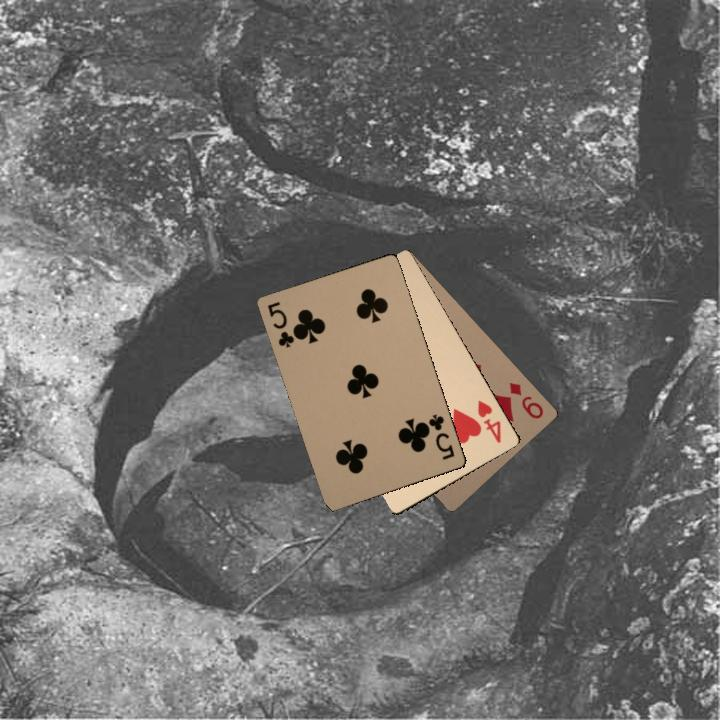4h: (473, 396, 504, 446)
5c: (421, 410, 457, 462), (262, 297, 297, 350)
9d: (505, 378, 546, 422)
